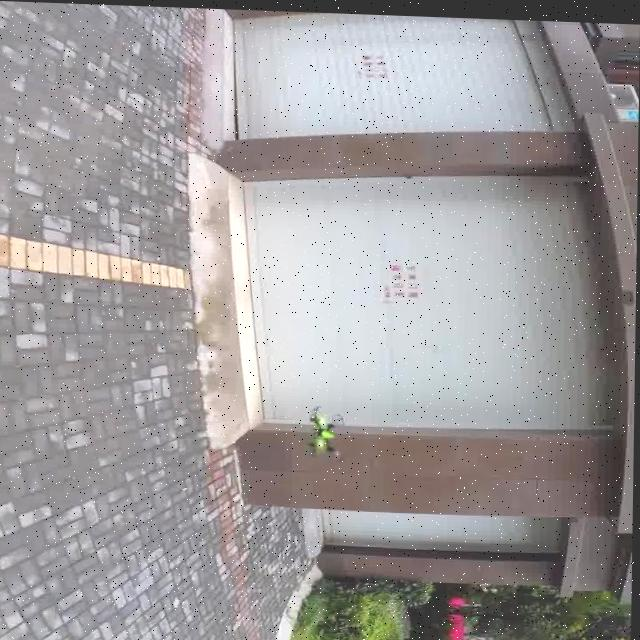drone: (299, 396, 359, 464)
